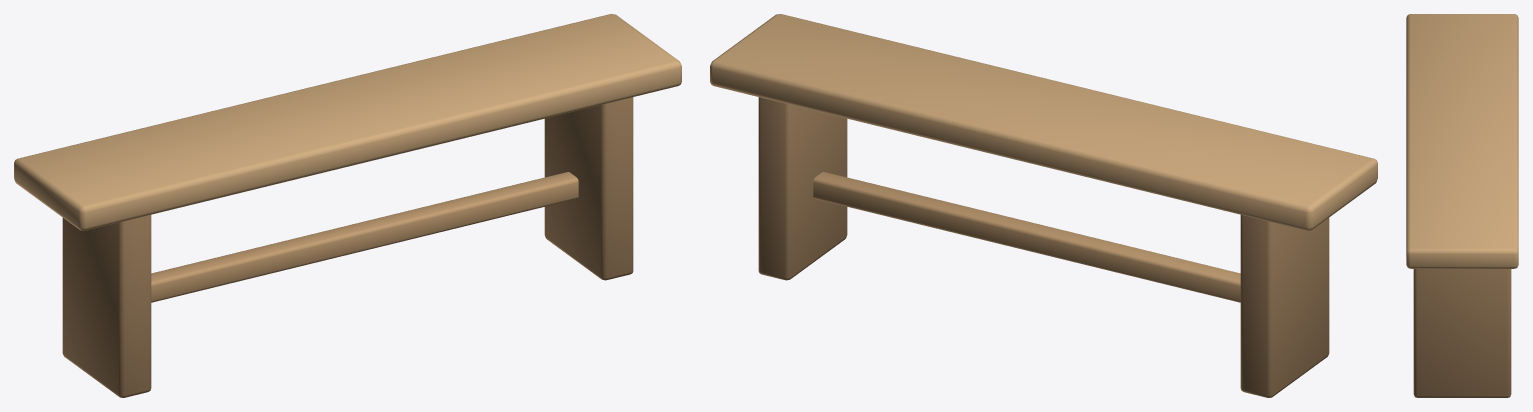
The model's file is banco.glb.
3 views of the same model, side by side, from view 1: azimuth 30°, elevation 25°; view 2: azimuth 150°, elevation 25°; view 3: azimuth 270°, elevation 25° (orthographic). The views are drawn at different scales.
Visible parts, largest first — view 1: banco; view 2: banco; view 3: banco.
Part boxes in pixels (x1,y1,x2,y2): banco: (14,14,681,397); banco: (710,14,1377,397); banco: (1406,14,1518,397).
Size of the model in its own units: 1.5 by 0.49 by 0.3.
